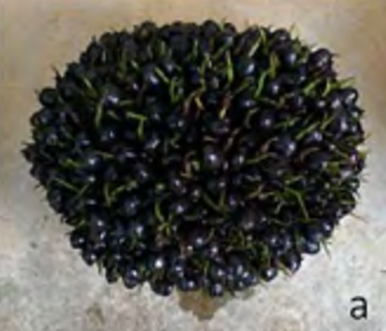PalmFruit: (24, 19, 369, 288)
